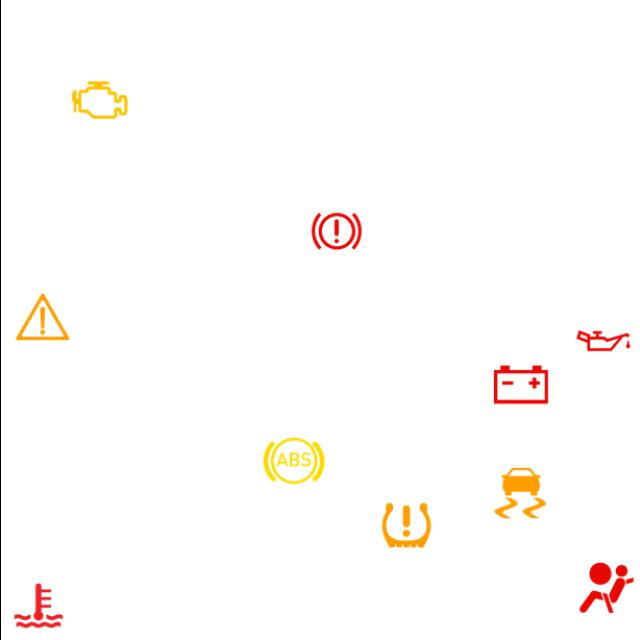Anti Lock Braking System: (260, 428, 326, 493)
Braking System Issue: (302, 198, 368, 264)
Charging System Issue: (487, 351, 553, 418)
Check Engine: (66, 67, 132, 133)
Electronic Stability Problem -ESP-: (486, 459, 552, 526)
Engine Overheating Warning Light: (5, 572, 70, 638)
Low Engine Oil Warning Light: (570, 308, 636, 374)
Low Tire Pressure Warning Light: (372, 492, 438, 559)
Master warning light: (9, 284, 74, 350)
SRS-Airbag: (572, 555, 638, 621)
